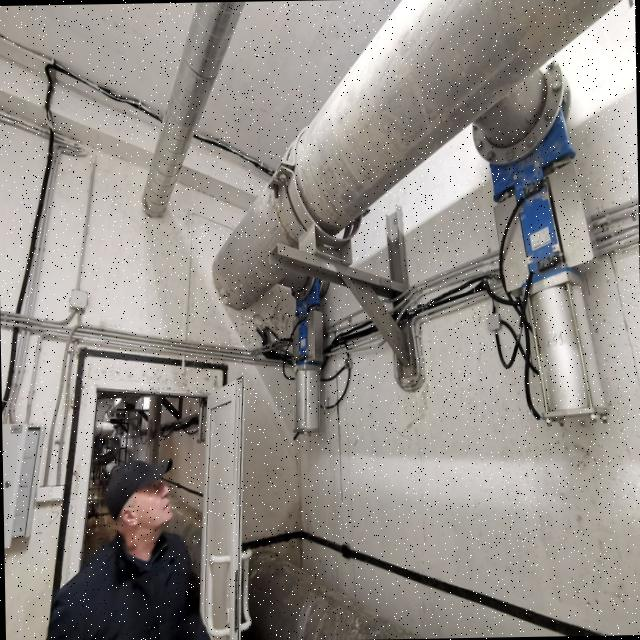NoHelmet: (103, 457, 178, 554)
